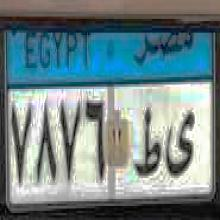6: (84, 97, 107, 183)
7: (59, 97, 82, 179), (12, 103, 33, 182)
8: (37, 98, 55, 183)
Taa: (133, 109, 163, 179)
yaa: (165, 109, 195, 178)
